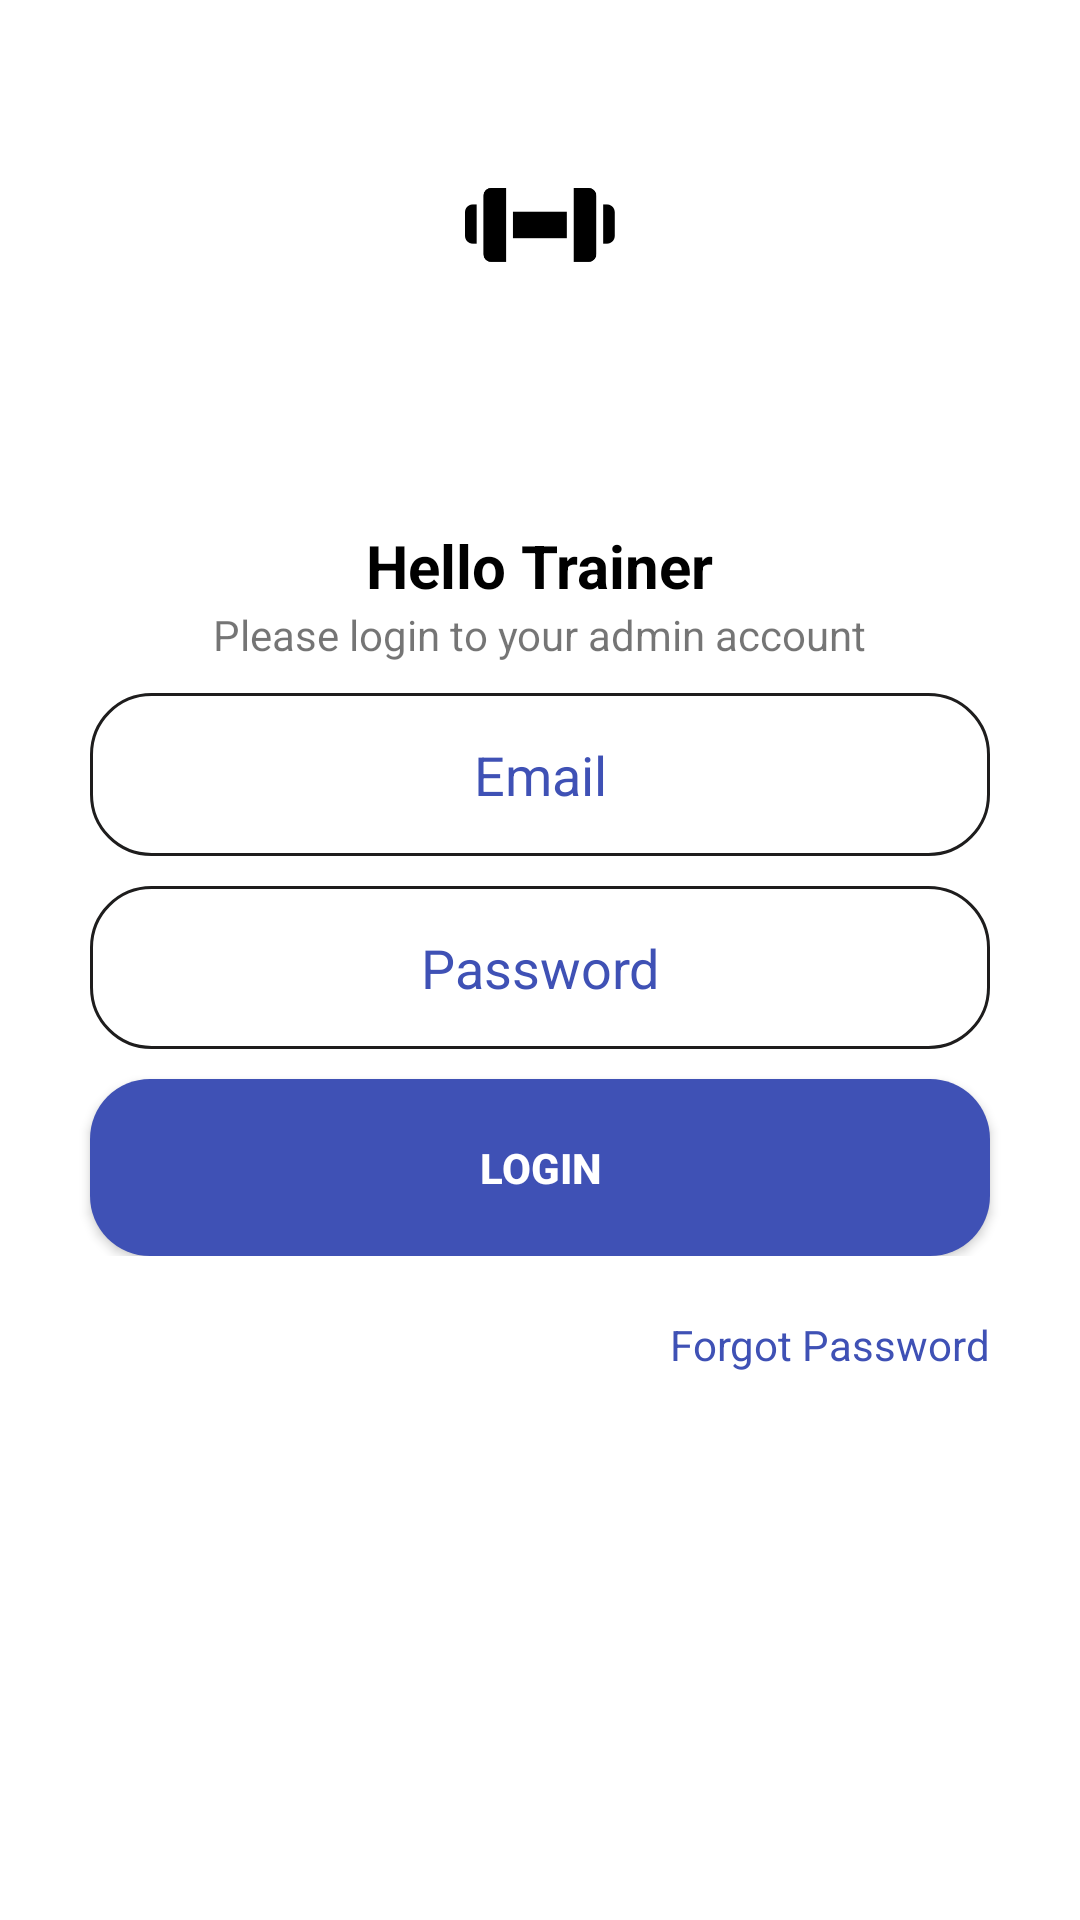

Point at icon controls on the screen. Image size 1080px×1920px, points as (x=x, y=y).
gym: (x=540, y=225)
